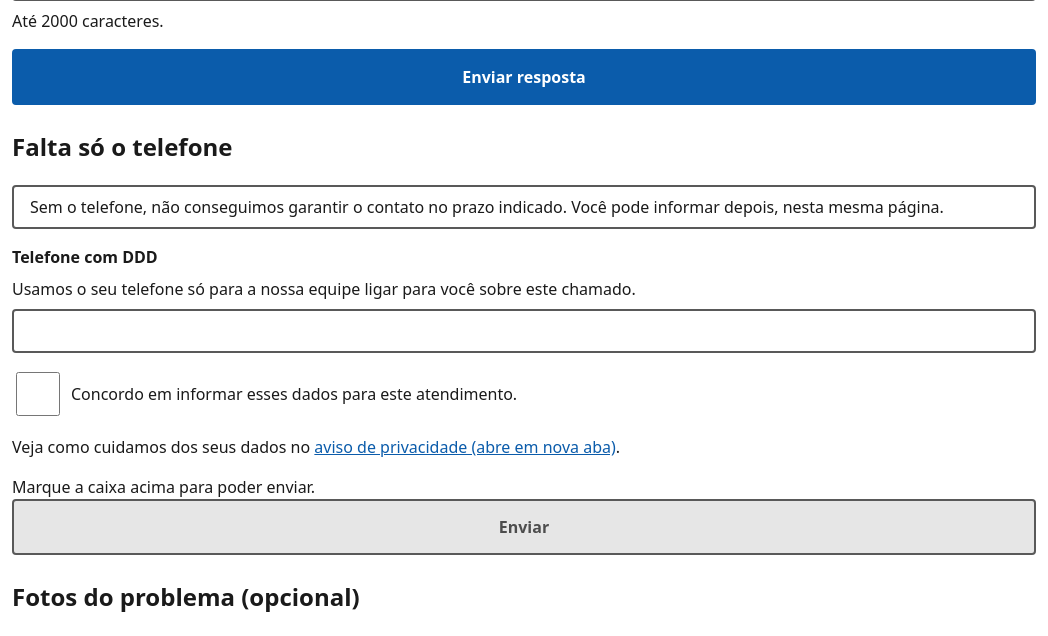
Scenario: formulário de contato › mostra o erro do servidor junto ao campo e mantém o digitado
(page scrolled)
Type "11912345678" into the field labelled "Telefone com DDD" at (524, 330), box x1=12 y1=308 x2=1036 y2=352
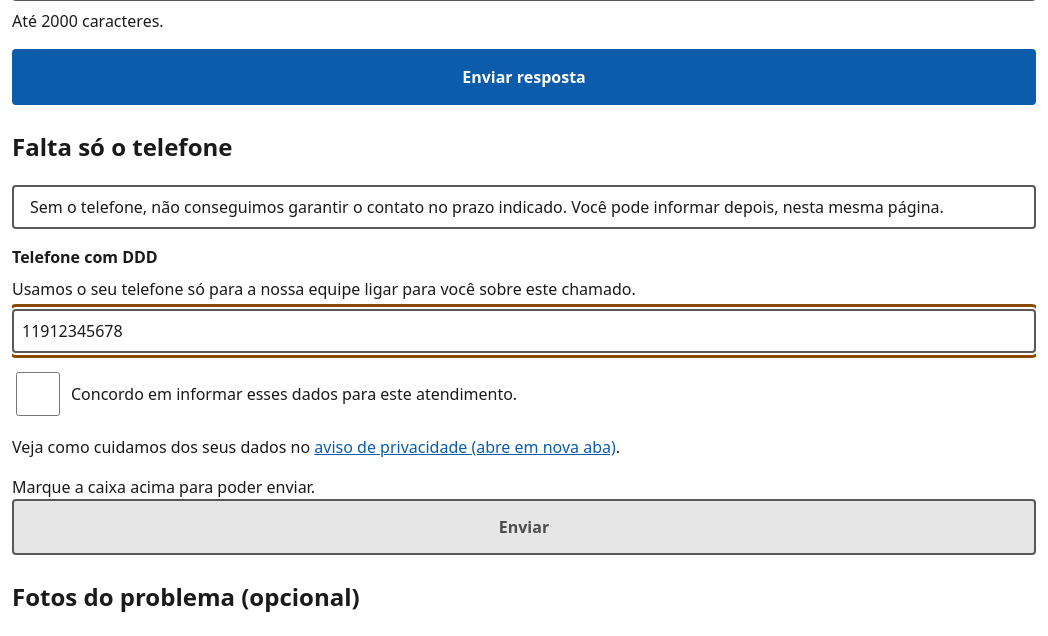
Click the checkbox at (38, 394), box x1=16 y1=372 x2=60 y2=416
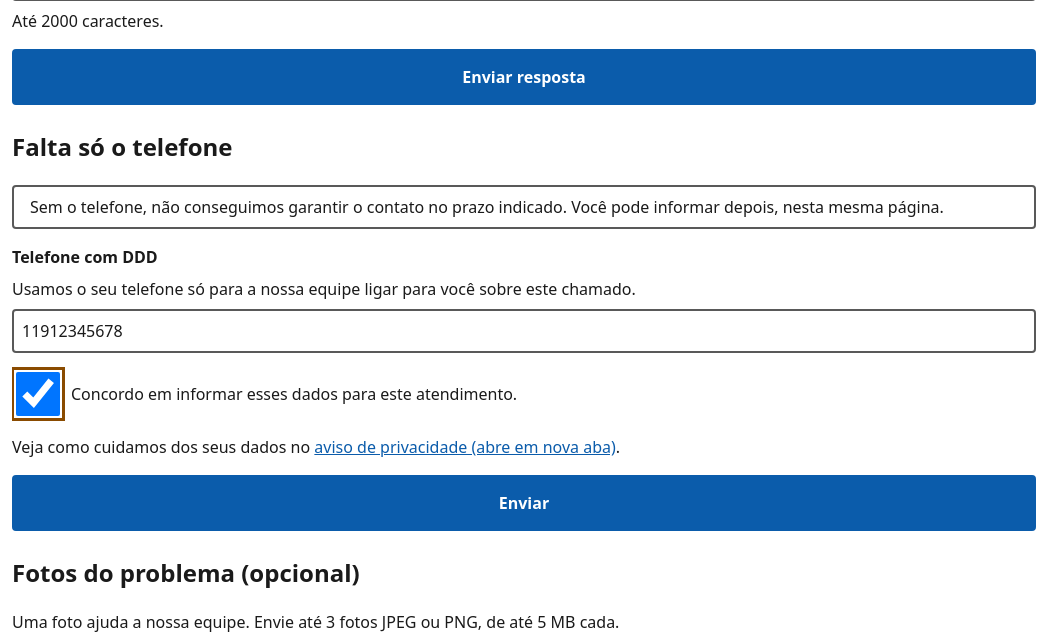
Click the button "Enviar" at (524, 502), box x1=12 y1=474 x2=1036 y2=530
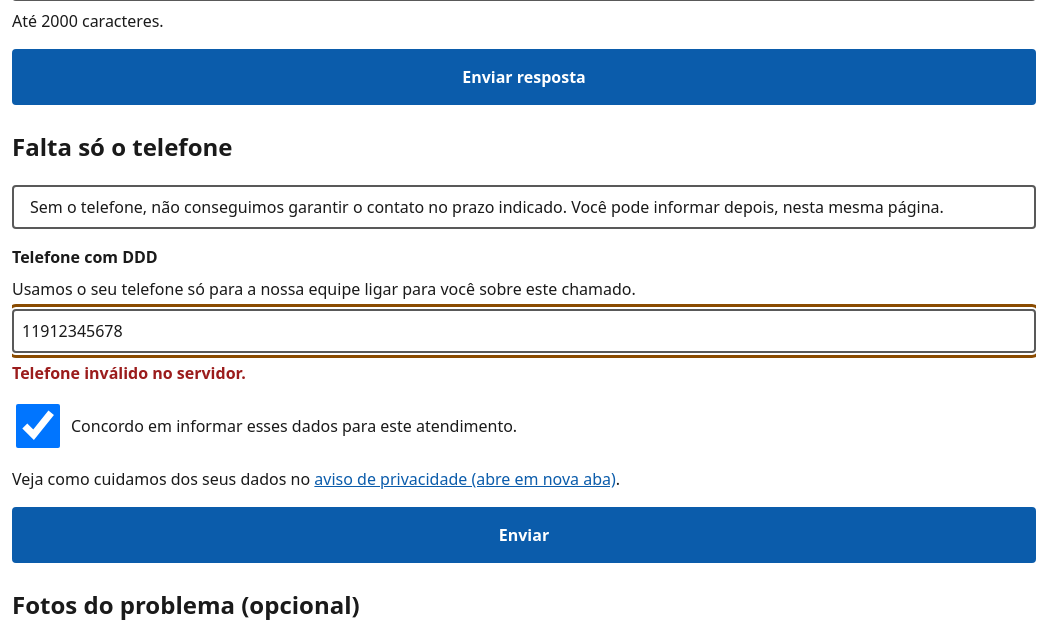
Expected: the text "Telefone inválido no servidor." is shown, x1=12 y1=362 x2=246 y2=384
